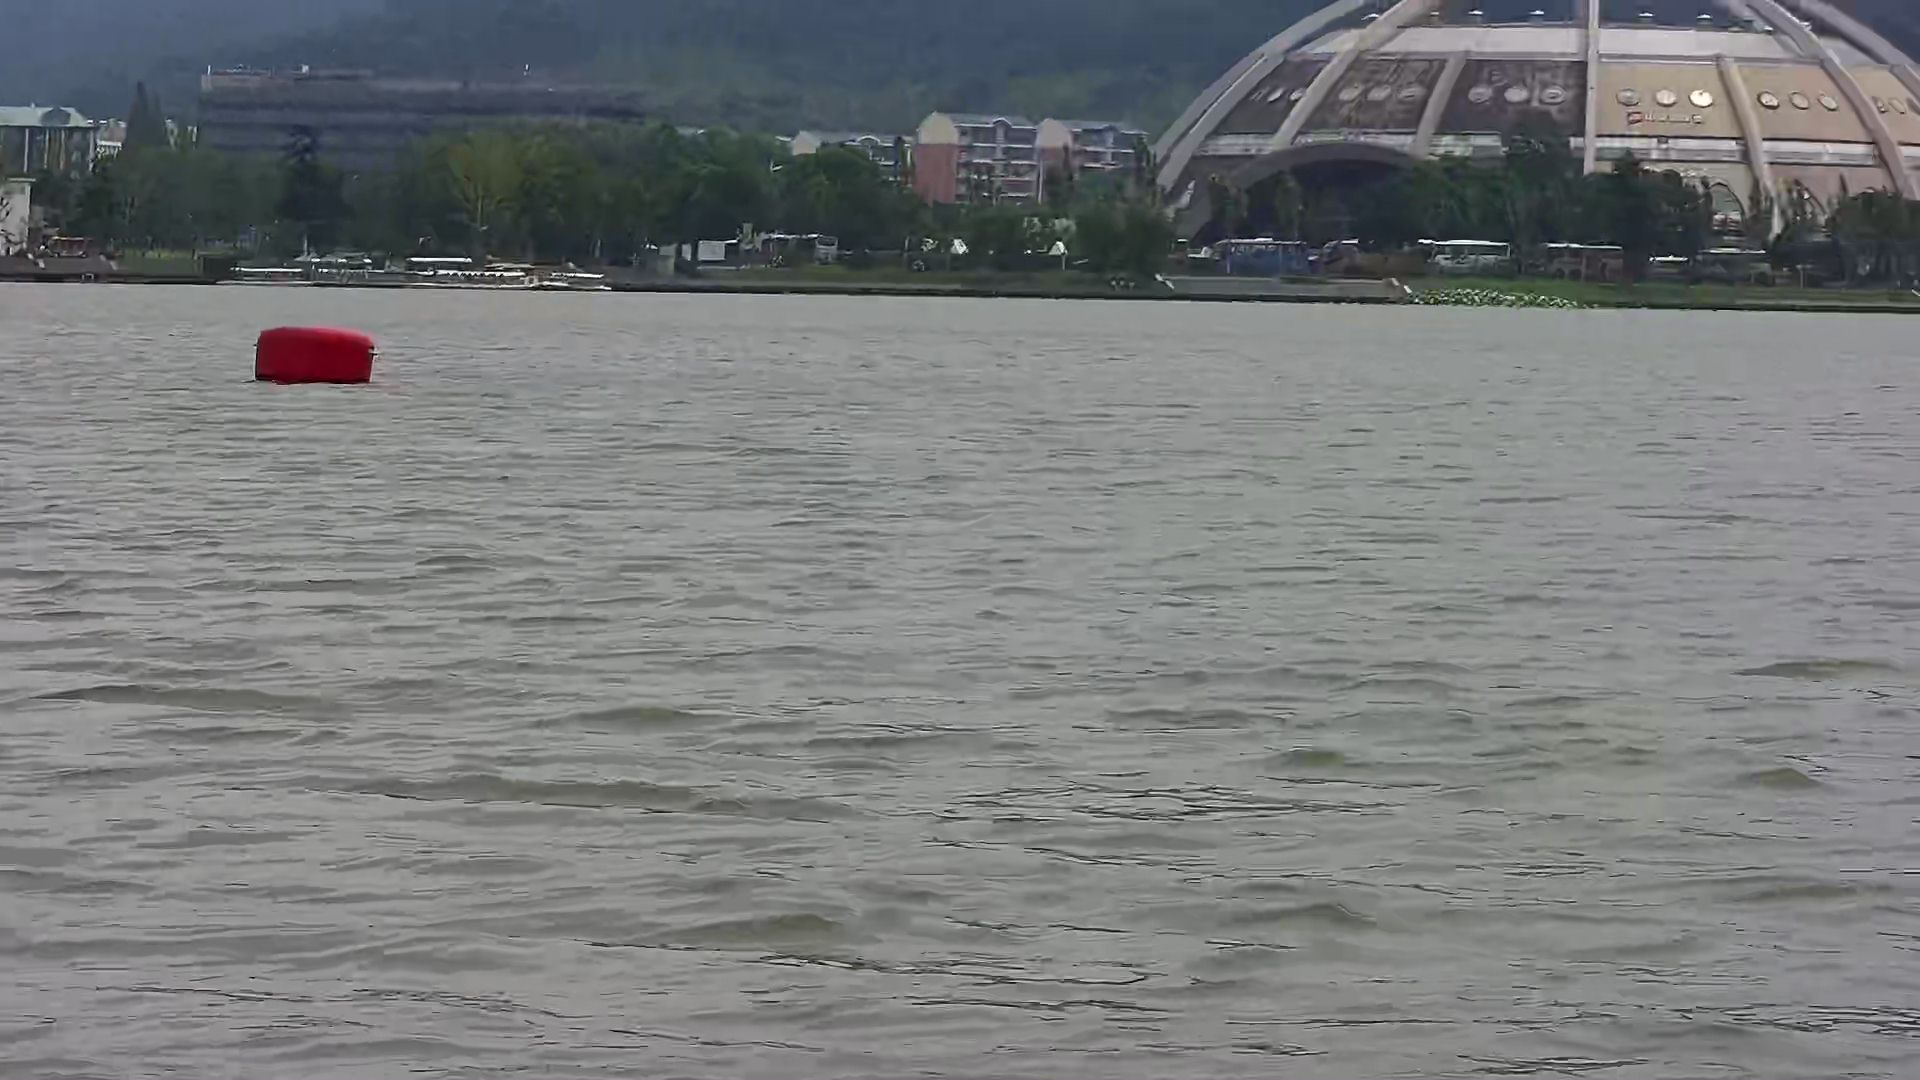rubbish: (247, 318, 384, 386)
